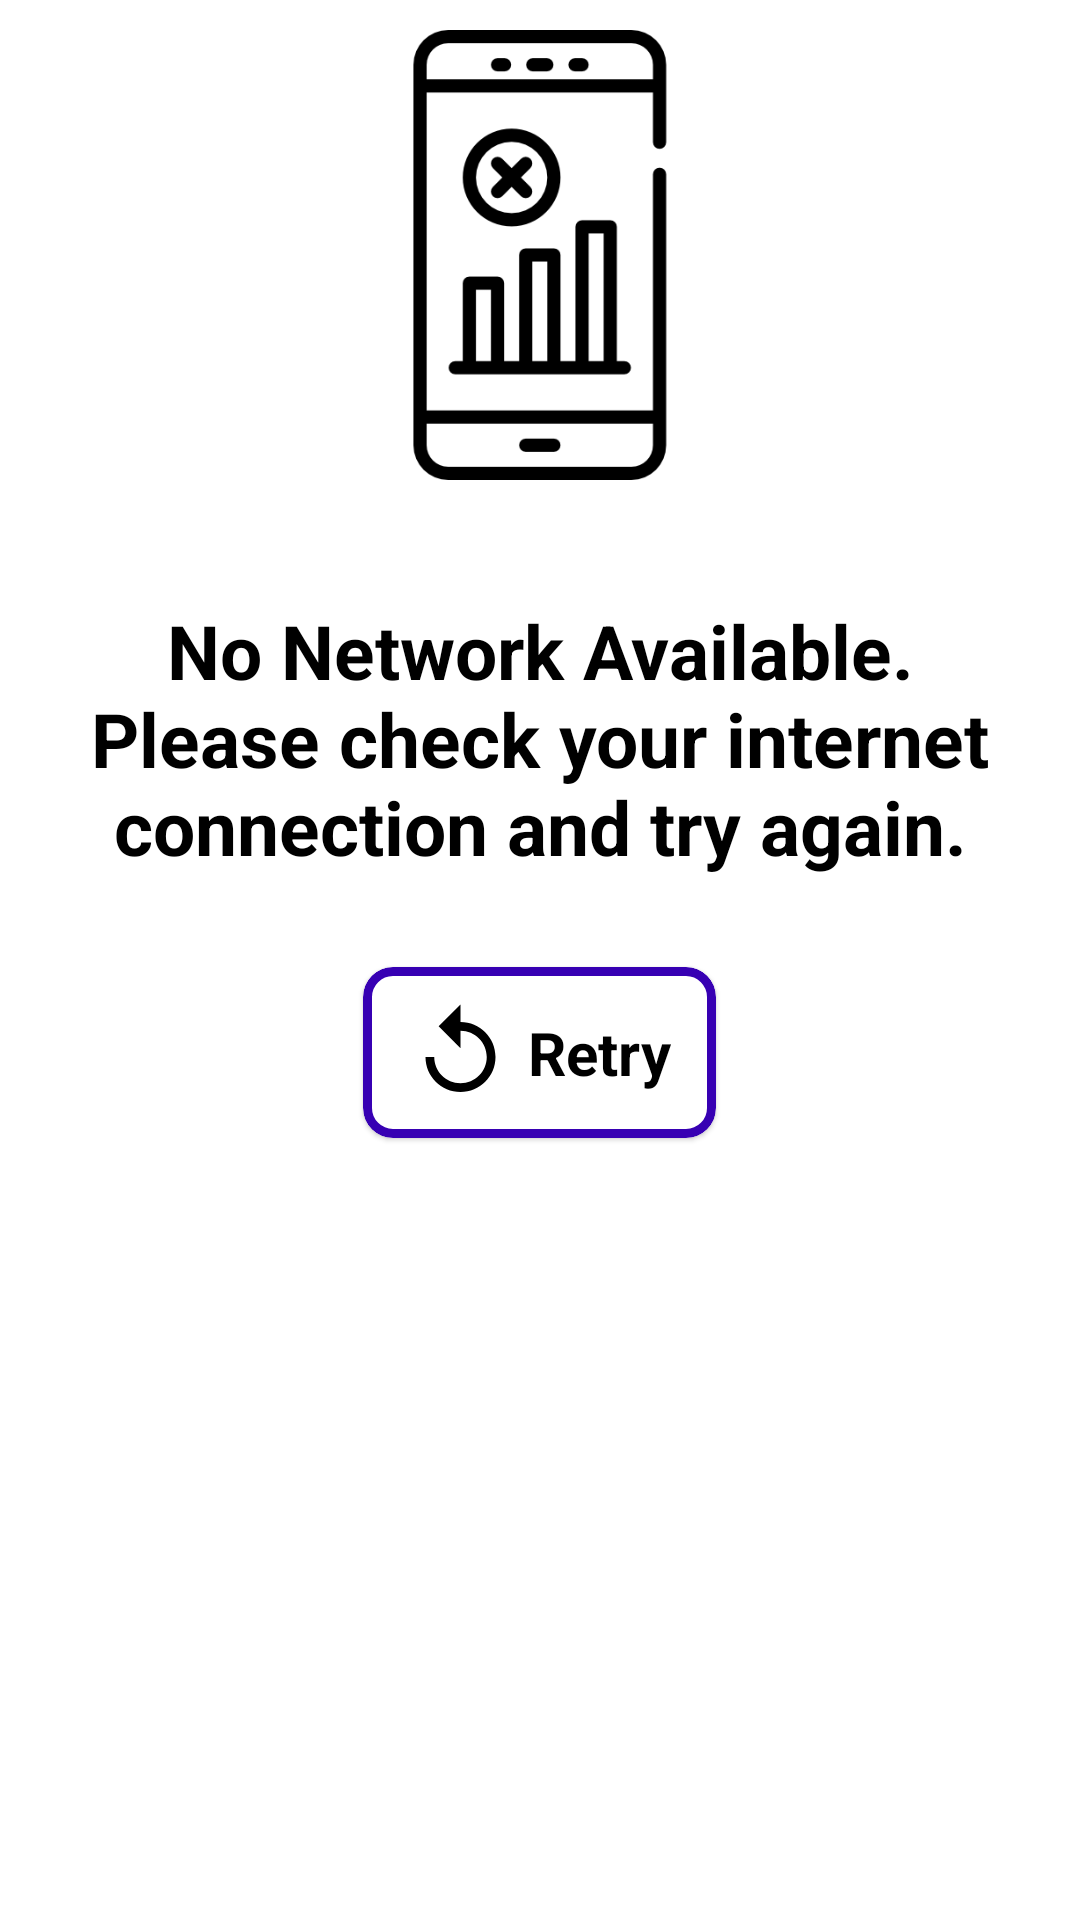

Named icons in this screenshot (1080x1920) and their centers, [x,y]:
replay: [460,1048]
